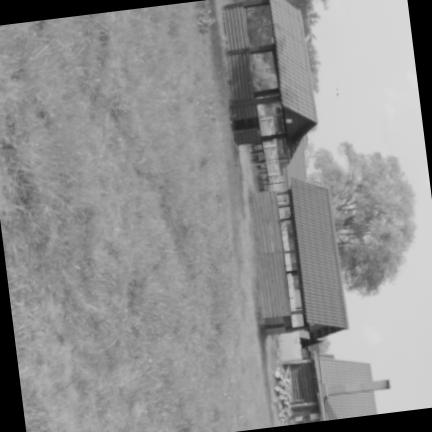Shahed: (334, 85, 338, 99)
